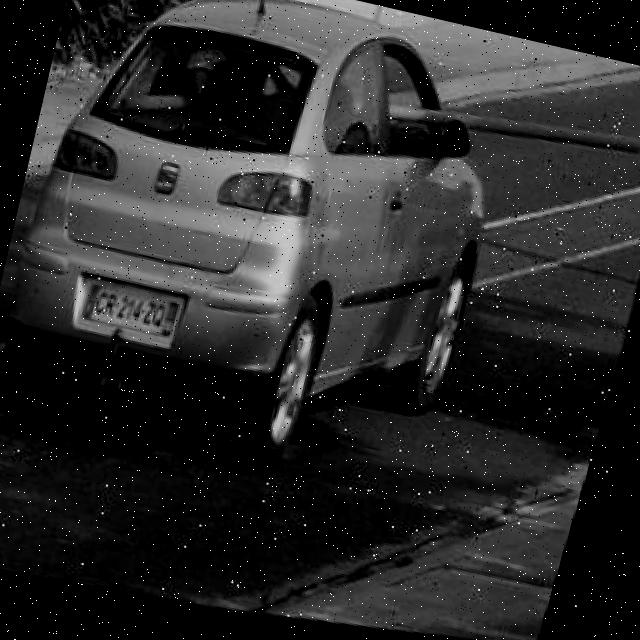Autre: (73, 271, 186, 345)
